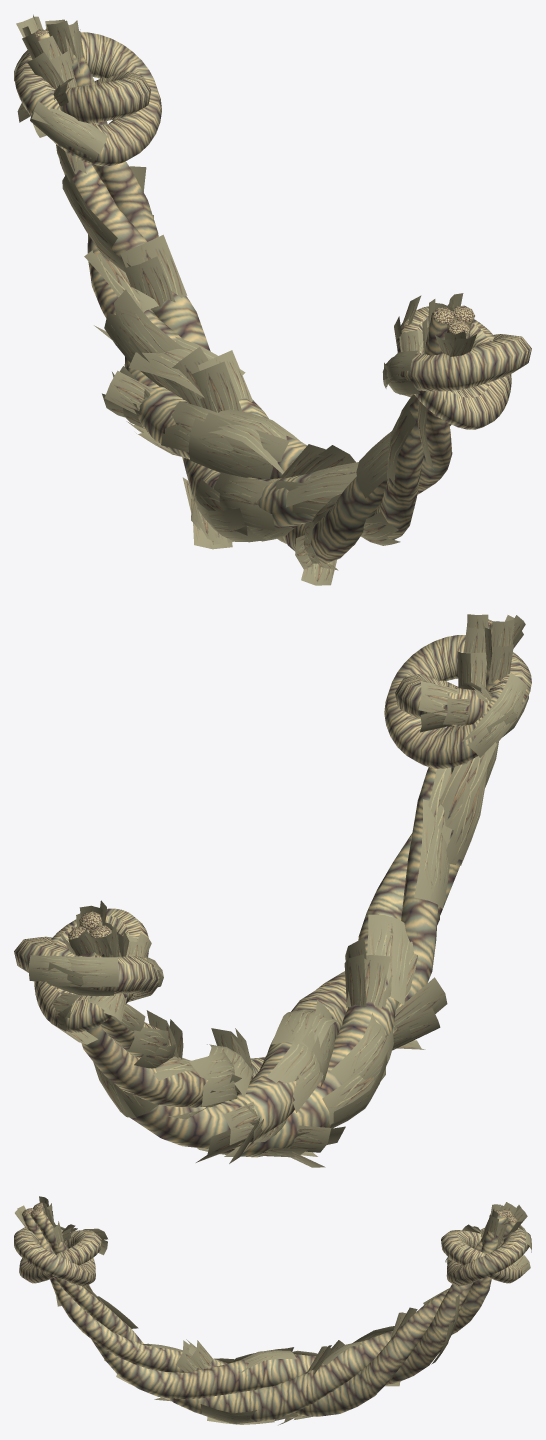
File: SM_Torii_gate_sacred_rope_single_LOD0.fbx
3 views of the same model, one above another, from view 1: azimuth 30°, elevation 25°; view 2: azimuth 150°, elevation 25°; view 3: azimuth 270°, elevation 25° (orthographic). The views are drawn at different scales.
Visible parts, largest first — view 1: SM_Torii_gate_sacred_rope_single_LOD0_LOD0; view 2: SM_Torii_gate_sacred_rope_single_LOD0_LOD0; view 3: SM_Torii_gate_sacred_rope_single_LOD0_LOD0.
Boxes of the visible parts, x1,y1,x2,y2 form: SM_Torii_gate_sacred_rope_single_LOD0_LOD0: [14, 14, 531, 585]; SM_Torii_gate_sacred_rope_single_LOD0_LOD0: [14, 614, 531, 1167]; SM_Torii_gate_sacred_rope_single_LOD0_LOD0: [14, 1196, 531, 1425].
Size of the model in its own units: 62.35 by 332 by 163.
